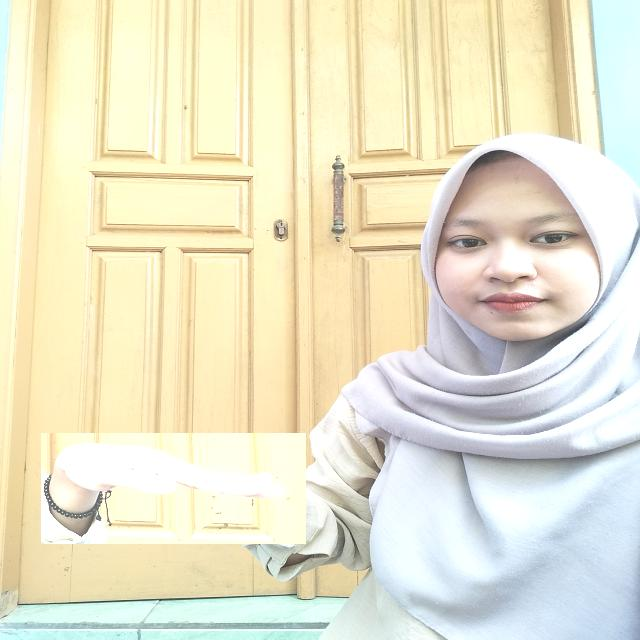adik: (41, 433, 306, 544)
